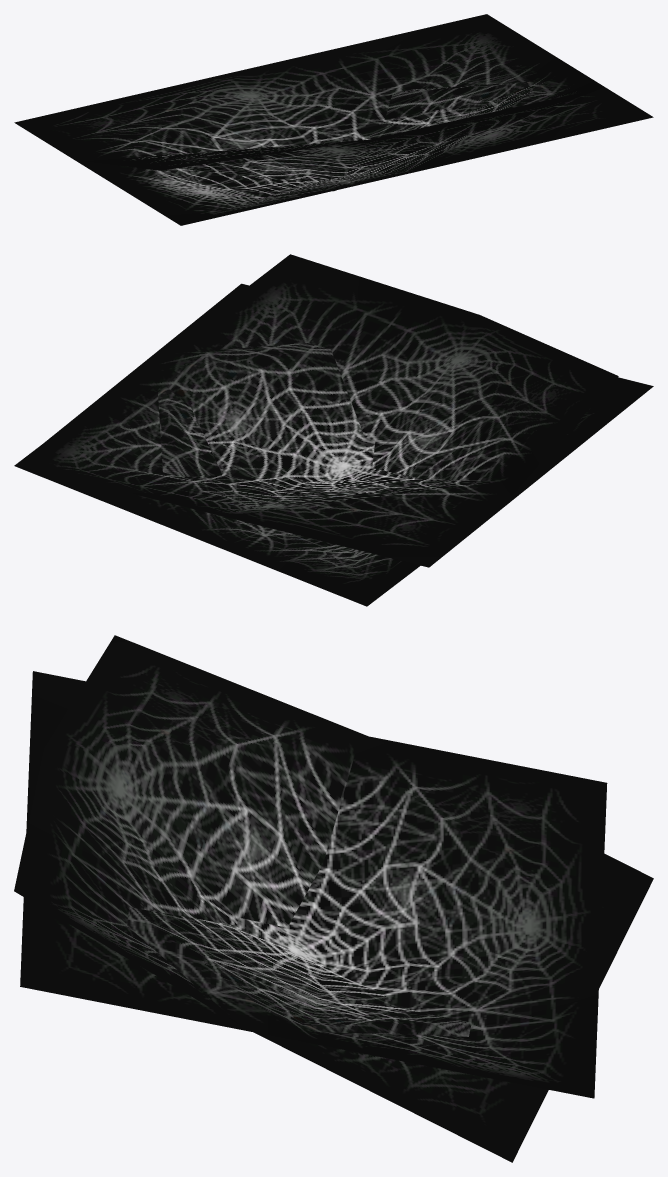
The model's file is DWARF_PALACE_SPIDERWEB18.fbx.
3 renders of one model, top to bottom at view 1: azimuth 30°, elevation 25°; view 2: azimuth 150°, elevation 25°; view 3: azimuth 270°, elevation 25°, orthographic. The views are drawn at different scales.
Parts seen in each view (by area): view 1: DWARF_PALACE_SPIDERWEB18; view 2: DWARF_PALACE_SPIDERWEB18; view 3: DWARF_PALACE_SPIDERWEB18.
Part boxes in pixels (x1,y1,x2,y2): DWARF_PALACE_SPIDERWEB18: (14,14,653,225); DWARF_PALACE_SPIDERWEB18: (14,254,653,606); DWARF_PALACE_SPIDERWEB18: (14,635,653,1162).
Bounding box in the file's own units: 84753 × 21864 × 63110.
Materials: 1 (1 with a texture image).
